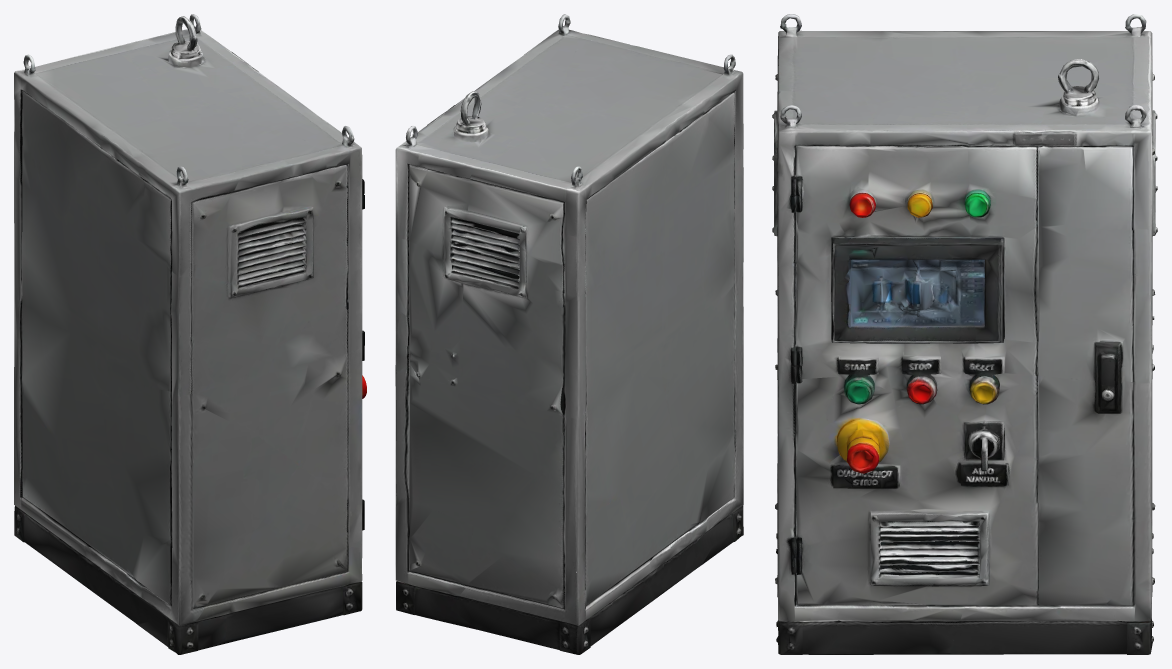
File: Cabinet_blue.glb
The picture shows the model from 3 angles, left to right: view 1: azimuth 30°, elevation 25°; view 2: azimuth 150°, elevation 25°; view 3: azimuth 270°, elevation 25°; orthographic projection. The views are drawn at different scales.
Visible parts, largest first — view 1: tripo_node_f6273a43-9245-4206-8fad-a2f547266c8d; view 2: tripo_node_f6273a43-9245-4206-8fad-a2f547266c8d; view 3: tripo_node_f6273a43-9245-4206-8fad-a2f547266c8d.
Boxes of the visible parts, bbox=[...] form: tripo_node_f6273a43-9245-4206-8fad-a2f547266c8d: bbox=[14, 14, 366, 654]; tripo_node_f6273a43-9245-4206-8fad-a2f547266c8d: bbox=[395, 14, 743, 654]; tripo_node_f6273a43-9245-4206-8fad-a2f547266c8d: bbox=[772, 14, 1157, 654].
Bounding box in the file's own units: 0.4489 × 0.979 × 0.5974.
1 material, 1 textured.
